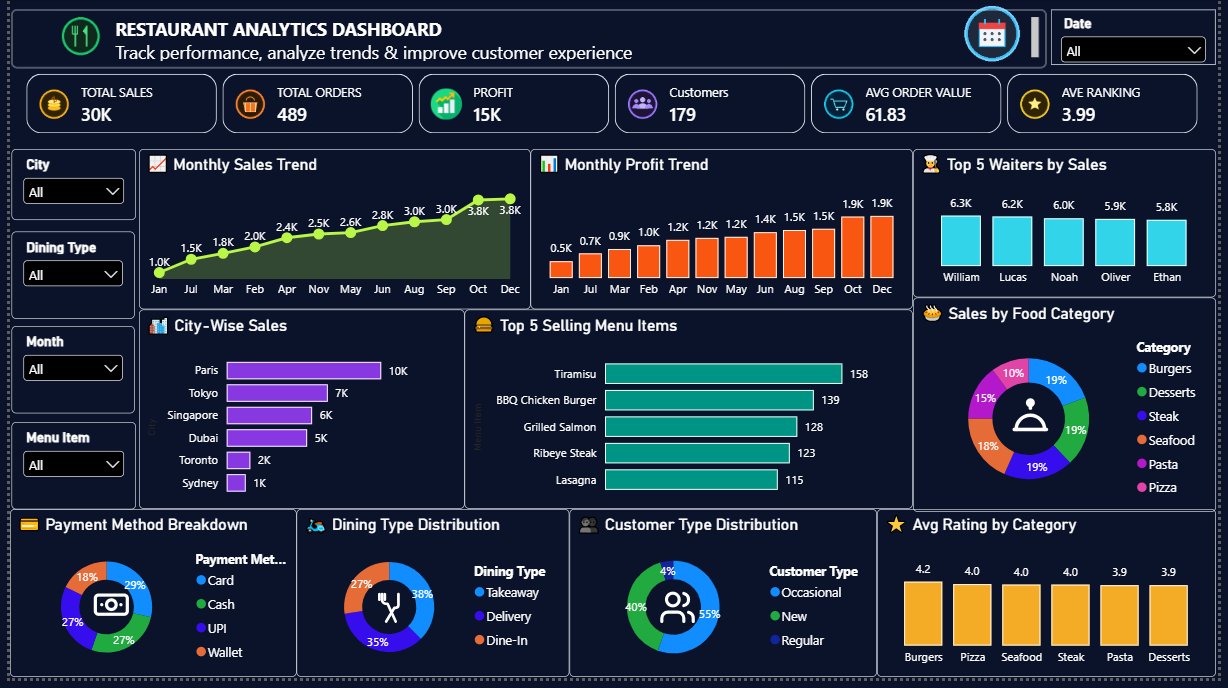

The page's visual inventory and layout, read from the dashboard file:
{"tool":"powerbi","page":{"name":"Page 1","canvas":[1280,720],"ordinal":0},"visuals":[{"type":"textbox","box":[1.3,11.9,1097.5,62],"z":0,"group":"g4"},{"type":"cardVisual","fields":{"Data":["Order_Data.TOTAL SALES","Order_Data.TOTAL ORDERS","Order_Data.PROFIT","Order_Data.COSTOMEERS","Order_Data.AVG ORDER VALUE","Order_Data.AVE RANKING"]},"box":[0,62,1278.9,97],"z":0},{"type":"lineChart","title":"📈 Monthly Sales Trend","fields":{"Y":["Sum(Order_Data.Sales ($))"],"Category":["Order_Data.Month"]},"box":[136.8,159.1,415.1,170.2],"z":1000},{"type":"image","box":[994.1,4.8,93.8,63.6],"z":2000},{"type":"image","box":[3.2,17.5,143.1,43.6],"z":2000,"group":"g4"},{"type":"slicer","fields":{"Values":["Order_Data.City"]},"box":[1.6,159.1,132,75.4],"z":2000,"group":"g6"},{"type":"columnChart","title":"📊 Monthly Profit Trend","fields":{"Category":["Order_Data.Month"],"Y":["Order_Data.PROFIT"]},"box":[551.9,159.1,405.6,170.2],"z":3000},{"type":"clusteredBarChart","title":"🏙️ City-Wise Sales","fields":{"Category":["Order_Data.City"],"Y":["Sum(Order_Data.Sales ($))"]},"box":[136.8,329.3,345.2,211.6],"z":4000},{"type":"slicer","fields":{"Values":["Order_Data.Dining Type"]},"box":[1.6,247.1,130.4,92.7],"z":5000,"group":"g6"},{"type":"barChart","title":"🍔 Top 5 Selling Menu Items","fields":{"Y":["Sum(Order_Data.Quantity)"],"Category":["Order_Data.Menu Item"]},"box":[482,329.3,475.6,211.6],"z":5000},{"type":"columnChart","title":"👨🍳 Top 5 Waiters by Sales","fields":{"Category":["Order_Data.Waiter"],"Y":["Sum(Order_Data.Sales ($))"]},"box":[957.5,159.1,321.3,157.5],"z":6000},{"type":"slicer","fields":{"Values":["Order_Data.Month"]},"box":[1.6,346,130.4,92.7],"z":6000,"group":"g6"},{"type":"donutChart","title":"🥧 Sales by Food Category","fields":{"Category":["Order_Data.Category"],"Y":["Sum(Order_Data.Sales ($))"]},"box":[957.5,316.5,321.3,227.5],"z":7000,"group":"g5"},{"type":"columnChart","title":"⭐ Avg Rating by Category","fields":{"Category":["Order_Data.Category"],"Y":["Order_Data.AVE RANKING"]},"box":[919.4,540.8,359.5,178.1],"z":7000},{"type":"group","id":"g1","title":"Group 2","box":[0,540.8,303.8,178.1],"z":8000},{"type":"group","id":"g2","title":"Group 3","box":[303.8,540.8,289.5,178.1],"z":9000},{"type":"group","id":"g3","title":"Group 4","box":[593.3,540.8,326.1,178.1],"z":10000},{"type":"group","id":"g4","title":"Group 6","box":[1.3,11.9,1097.5,62],"z":11000},{"type":"slicer","title":"Data  as of ","fields":{"Values":["Order_Data.Date"]},"box":[1103.9,11.1,175,58.9],"z":12000},{"type":"slicer","fields":{"Values":["Order_Data.Menu Item"]},"box":[1.6,448.2,132,92.7],"z":12000,"group":"g6"},{"type":"group","id":"g5","title":"Group 1","box":[957.5,316.5,321.3,227.5],"z":13000},{"type":"image","box":[1059.2,419.9,45.2,46.1],"z":13000,"group":"g5"},{"type":"group","id":"g6","title":"Group 5","box":[1.6,159.1,132,381.7],"z":14000},{"type":"donutChart","title":"💳 Payment Method Breakdown","fields":{"Category":["Order_Data.Payment Method"],"Y":["CountNonNull(Order_Data.Payment Method)"]},"box":[0,540.8,303.8,178.1],"z":14000,"group":"g1"},{"type":"donutChart","title":"🛵 Dining Type Distribution","fields":{"Category":["Order_Data.Dining Type"],"Y":["CountNonNull(Order_Data.Dining Type)"]},"box":[303.8,540.8,289.5,178.1],"z":15000,"group":"g2"},{"type":"donutChart","title":"👥 Customer Type Distribution","fields":{"Category":["Order_Data.Customer Type"],"Y":["CountNonNull(Order_Data.Customer Type)"]},"box":[593.3,540.8,326.1,178.1],"z":16000,"group":"g3"},{"type":"image","box":[80.4,622.5,53,40.9],"z":19001,"group":"g1"},{"type":"image","box":[378.6,628.2,49.3,34.6],"z":19002,"group":"g2"},{"type":"image","box":[679.6,624.9,56.9,39.9],"z":19003,"group":"g3"}]}

Visuals, with their boxes in screenshot pixels (x1, y1, x2, y2), scaled from the page's 1280x720 canvas onto the 1228x688 screenshot:
textbox: detection(1, 11, 1054, 71)
cardVisual - Order_Data.TOTAL SALES x Order_Data.TOTAL ORDERS: detection(0, 59, 1227, 152)
"📈 Monthly Sales Trend" lineChart: detection(131, 152, 529, 315)
image: detection(954, 5, 1044, 65)
image: detection(3, 17, 140, 58)
slicer - Order_Data.City: detection(2, 152, 128, 224)
"📊 Monthly Profit Trend" columnChart: detection(529, 152, 919, 315)
"🏙️ City-Wise Sales" clusteredBarChart: detection(131, 315, 462, 517)
slicer - Order_Data.Dining Type: detection(2, 236, 127, 325)
"🍔 Top 5 Selling Menu Items" barChart: detection(462, 315, 919, 517)
"👨🍳 Top 5 Waiters by Sales" columnChart: detection(919, 152, 1227, 303)
slicer - Order_Data.Month: detection(2, 331, 127, 419)
"🥧 Sales by Food Category" donutChart: detection(919, 302, 1227, 520)
"⭐ Avg Rating by Category" columnChart: detection(882, 517, 1227, 687)
"Group 2" group: detection(0, 517, 291, 687)
"Group 3" group: detection(291, 517, 569, 687)
"Group 4" group: detection(569, 517, 882, 687)
"Group 6" group: detection(1, 11, 1054, 71)
"Data  as of " slicer: detection(1059, 11, 1227, 67)
slicer - Order_Data.Menu Item: detection(2, 428, 128, 517)
"Group 1" group: detection(919, 302, 1227, 520)
image: detection(1016, 401, 1060, 445)
"Group 5" group: detection(2, 152, 128, 517)
"💳 Payment Method Breakdown" donutChart: detection(0, 517, 291, 687)
"🛵 Dining Type Distribution" donutChart: detection(291, 517, 569, 687)
"👥 Customer Type Distribution" donutChart: detection(569, 517, 882, 687)
image: detection(77, 595, 128, 634)
image: detection(363, 600, 411, 633)
image: detection(652, 597, 707, 635)
